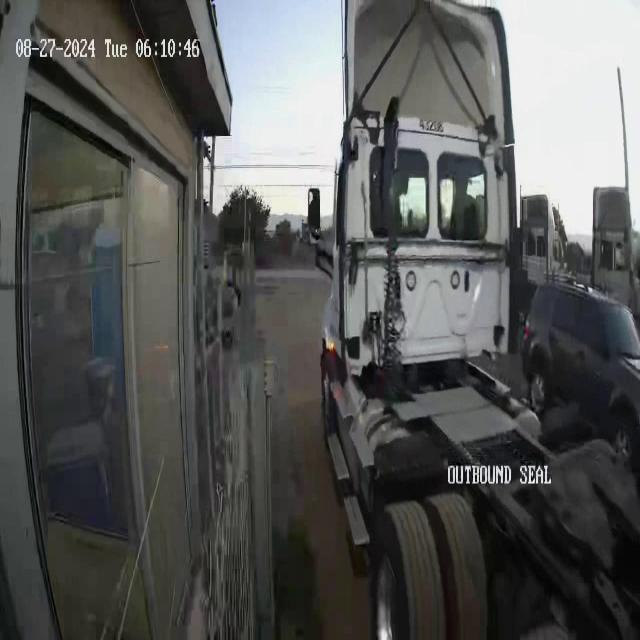BOBTAIL: (307, 1, 638, 638)
